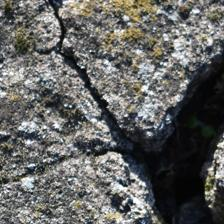Crack: (138, 45, 223, 216), (49, 5, 140, 161)
